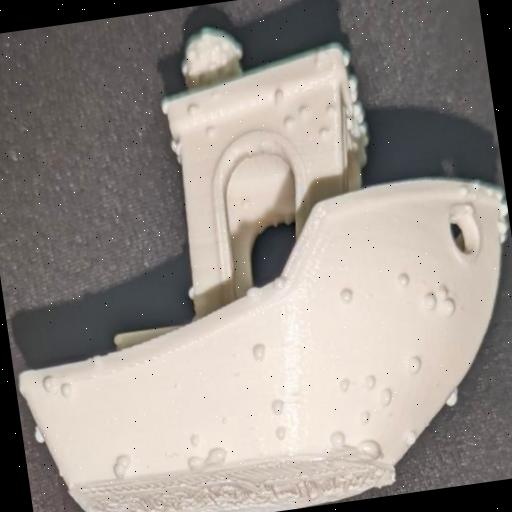blobs: (104, 450, 134, 482), (164, 134, 190, 164), (360, 434, 386, 462), (334, 278, 360, 305), (440, 385, 465, 413), (246, 338, 271, 366), (203, 442, 229, 468), (417, 286, 441, 314), (435, 296, 463, 320), (403, 348, 426, 376), (185, 444, 208, 472), (342, 72, 362, 103), (432, 275, 454, 301), (332, 368, 354, 394), (198, 116, 220, 142), (181, 96, 204, 120), (324, 428, 348, 450), (394, 266, 414, 292), (272, 82, 293, 106), (29, 422, 50, 446), (356, 404, 378, 426), (312, 124, 334, 146), (38, 370, 60, 392), (242, 280, 264, 302), (378, 384, 398, 408), (270, 396, 290, 420), (358, 370, 380, 391), (296, 103, 316, 125), (270, 276, 290, 298), (280, 109, 298, 133), (58, 380, 78, 400), (336, 44, 352, 68), (324, 100, 343, 120), (158, 93, 176, 114), (274, 420, 292, 440), (456, 180, 472, 202), (404, 428, 422, 446), (184, 428, 201, 447), (353, 104, 369, 124), (497, 199, 509, 220)
